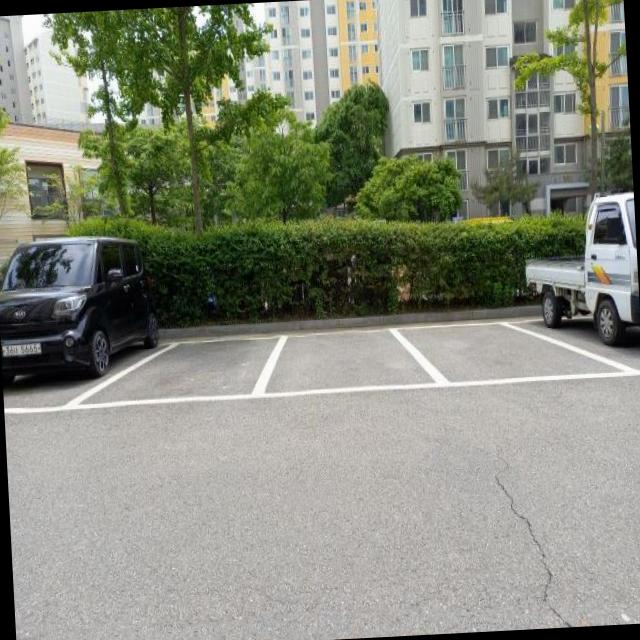car: (0, 229, 165, 391), (556, 193, 640, 356)
free: (262, 322, 438, 399), (426, 315, 566, 393), (130, 334, 270, 408)
